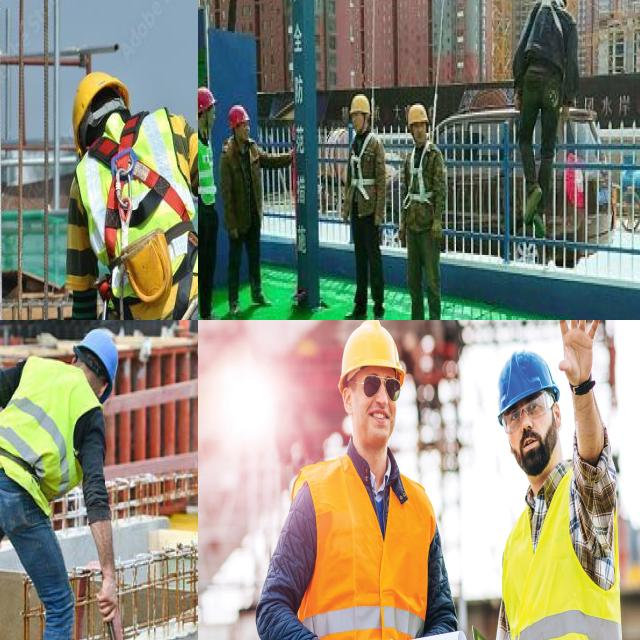Harness: (88, 112, 191, 258)
face_nomask: (499, 399, 560, 478), (348, 373, 401, 446), (351, 110, 368, 134), (203, 105, 221, 127), (412, 118, 427, 144), (236, 120, 255, 138)
glasses: (501, 391, 552, 435), (358, 372, 403, 402)
hand_glove: (428, 218, 446, 247), (557, 100, 574, 127), (397, 214, 408, 244), (513, 90, 521, 111)
hand_noglove: (554, 320, 605, 384), (96, 569, 126, 625)
head_helmet: (480, 340, 568, 423), (329, 320, 416, 388), (74, 325, 121, 399), (348, 90, 371, 120), (404, 102, 432, 125), (198, 84, 218, 114), (228, 104, 253, 125)
person: (257, 320, 465, 640), (468, 320, 627, 640), (0, 324, 144, 640), (336, 84, 392, 320), (519, 0, 577, 227), (394, 99, 447, 320), (222, 103, 270, 309), (198, 85, 227, 320)
shoes: (250, 288, 272, 312), (343, 302, 367, 320), (198, 310, 230, 320)
vest: (275, 431, 452, 640), (486, 447, 640, 640), (0, 352, 91, 507), (198, 127, 218, 204)
